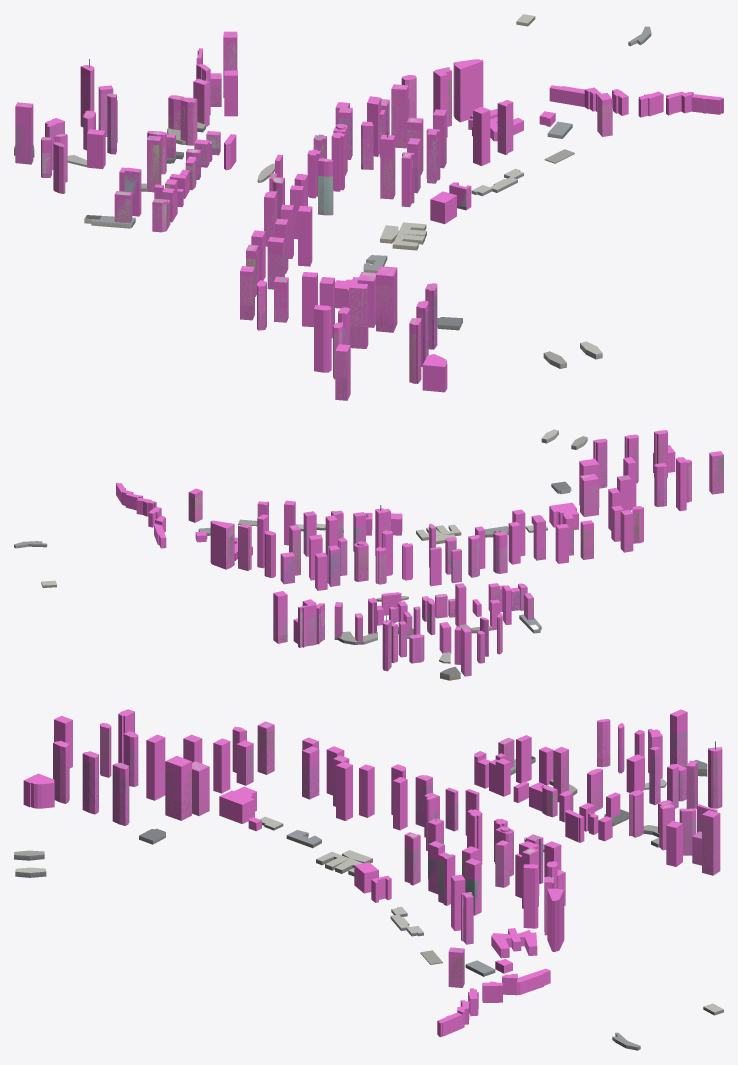
File: bld_6_2.fbx
3 views of the same model, one above another, from view 1: azimuth 30°, elevation 25°; view 2: azimuth 150°, elevation 25°; view 3: azimuth 270°, elevation 25° (orthographic). The views are drawn at different scales.
Visible parts, largest first — view 1: bld_6_2_COL, bld_6_2_LOD0; view 2: bld_6_2_COL, bld_6_2_LOD0; view 3: bld_6_2_COL, bld_6_2_LOD0.
Part boxes in pixels (x1,y1,x2,y2): bld_6_2_COL: (15, 31, 723, 400); bld_6_2_LOD0: (14, 14, 651, 400); bld_6_2_COL: (116, 430, 723, 676); bld_6_2_LOD0: (14, 429, 723, 680); bld_6_2_COL: (23, 709, 722, 1037); bld_6_2_LOD0: (14, 712, 723, 1050).
Size of what is drawn, in the model's own units: 1989 by 209 by 2048.
